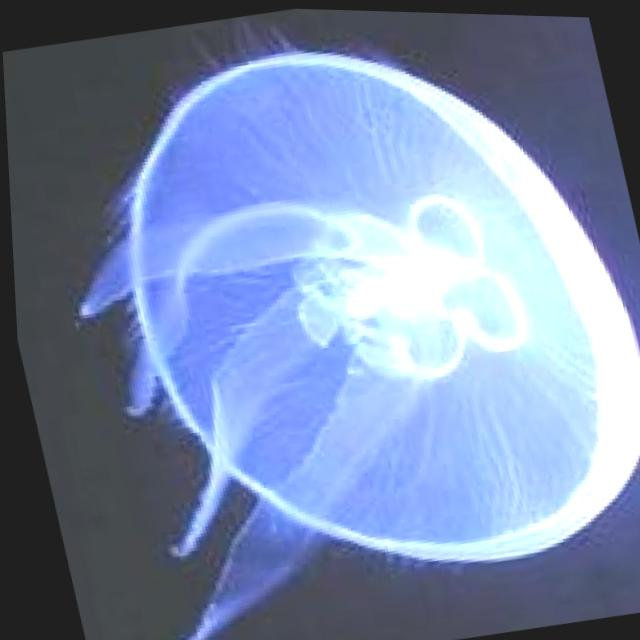Moon-jellyfish: (14, 0, 640, 640)
